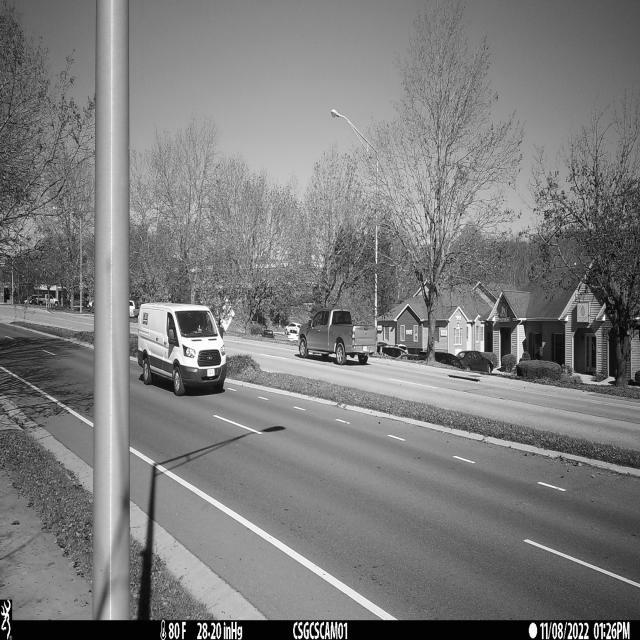Van: (138, 303, 227, 395)
